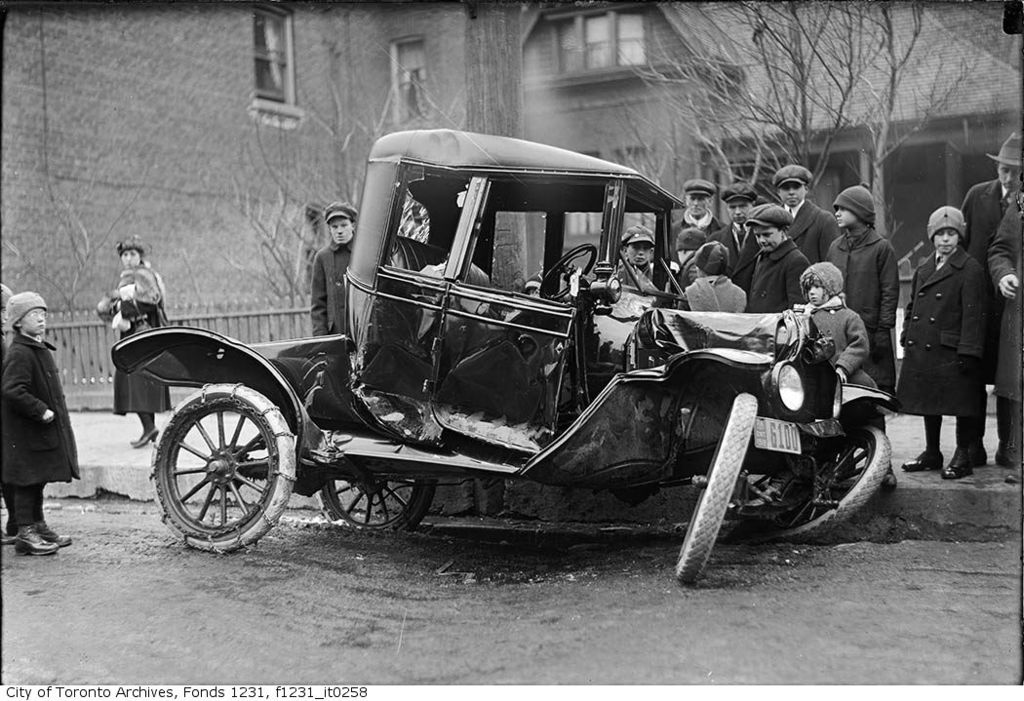cars: (67, 145, 938, 598)
